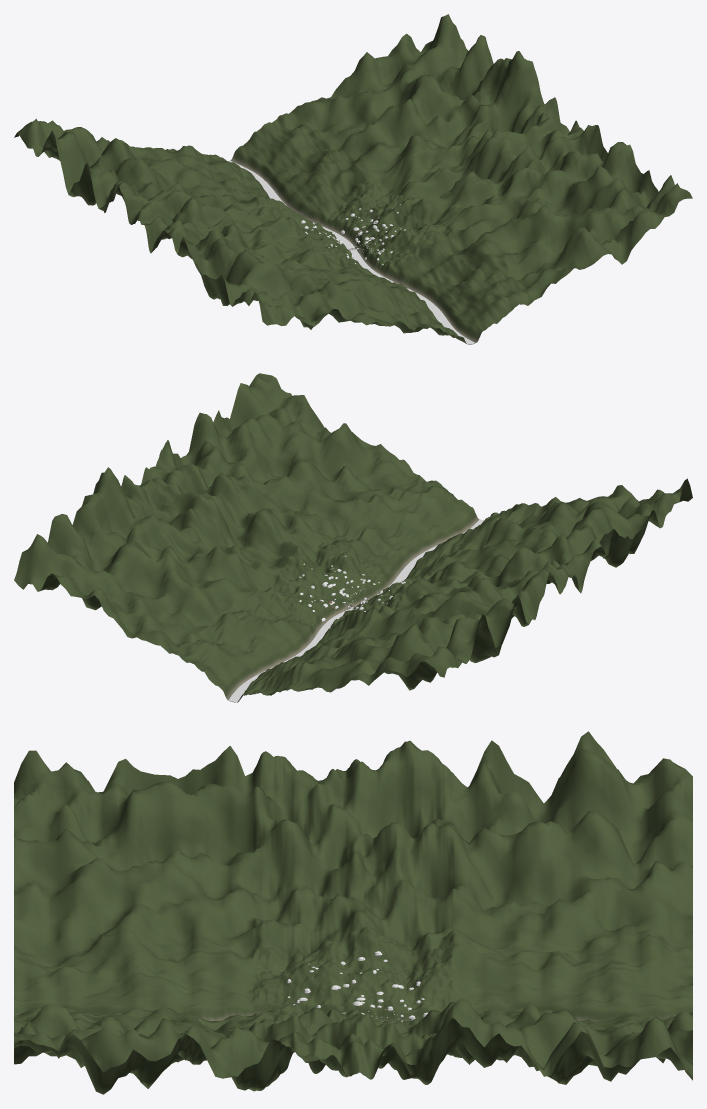
File: lazikou.glb
The picture shows the model from 3 angles, top to bottom: view 1: azimuth 30°, elevation 25°; view 2: azimuth 150°, elevation 25°; view 3: azimuth 270°, elevation 25°; orthographic projection. The views are drawn at different scales.
Visible parts, largest first — view 1: Continuous terrain, River surface, Historic rock; view 2: Continuous terrain, River surface, Historic rock; view 3: Continuous terrain, Historic rock.
Part boxes in pixels (x1,y1,x2,y2): Continuous terrain: (14,14,692,344); River surface: (228,160,475,344); Historic rock: (301,204,405,268); Continuous terrain: (14,373,692,702); River surface: (228,519,483,702); Historic rock: (299,555,410,626); Continuous terrain: (14,731,692,1094); Historic rock: (287,951,427,1022).
Size of the model in its own units: 426 by 116 by 426.
51 materials, 36 textured.
